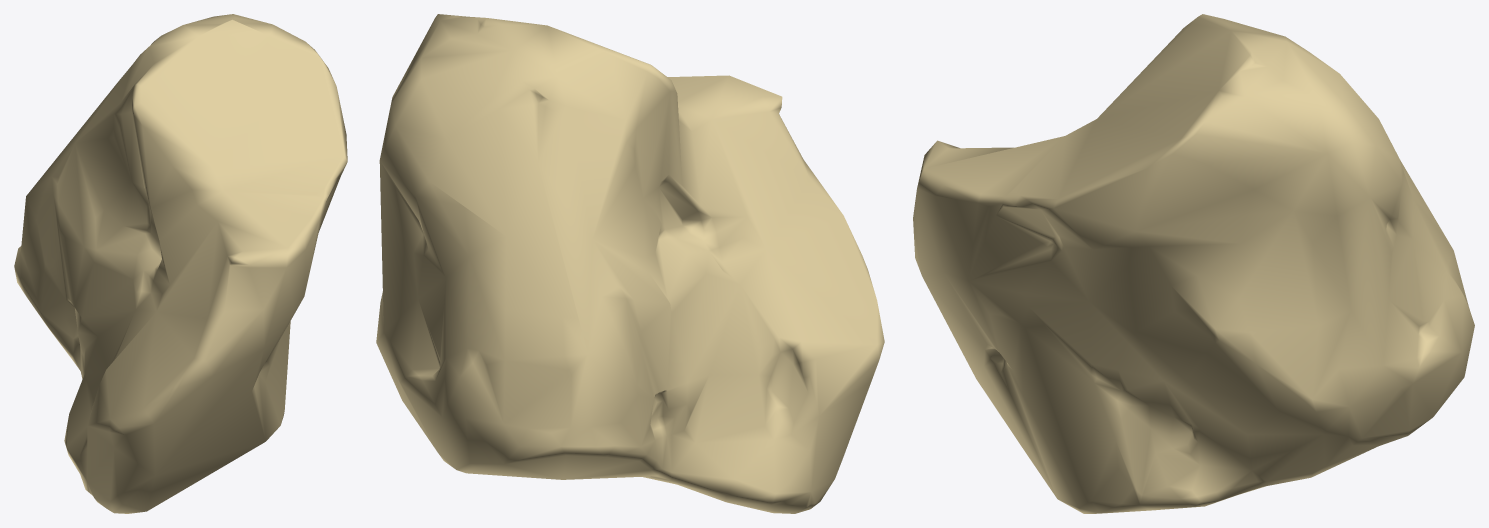
3 views of the same model, side by side, from view 1: azimuth 30°, elevation 25°; view 2: azimuth 150°, elevation 25°; view 3: azimuth 270°, elevation 25° (orthographic). The views are drawn at different scales.
Parts seen in each view (by area): view 1: 右侧内侧楔骨; view 2: 右侧内侧楔骨; view 3: 右侧内侧楔骨.
Part boxes in pixels (bbox=[...]): 右侧内侧楔骨: bbox=[14, 14, 347, 513]; 右侧内侧楔骨: bbox=[376, 14, 884, 513]; 右侧内侧楔骨: bbox=[913, 14, 1474, 513].
Size of the model in its own units: 0.037 by 0.0486 by 0.0476.
